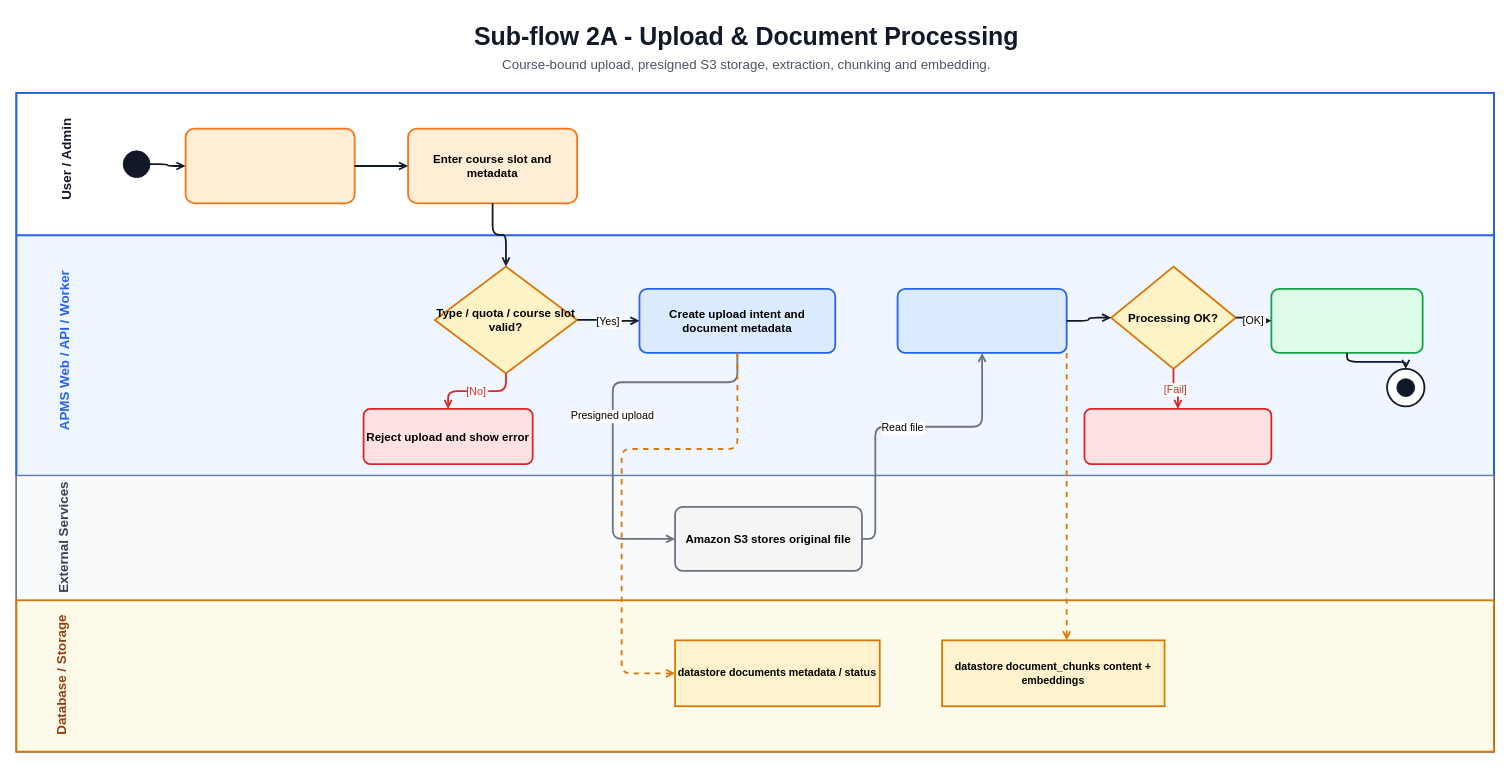
The diagram is 1509 pixels wide and 767 high, and some of its shapes have lost their labels. The shapes that lost their labels are listed below. From the top down, each one's centre as x and y in pixels, then its label:
At (x=269, y=165): "Select PDF / DOCX / PPTX".
At (x=981, y=320): "Worker extract chunk and embed".
At (x=1346, y=320): "Set status ready in Drive".
At (x=1177, y=436): "Set status processing failed".
